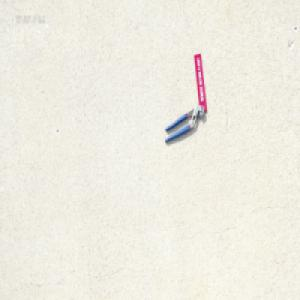Label: (194, 50, 207, 111)
Pliers: (164, 105, 204, 142)
